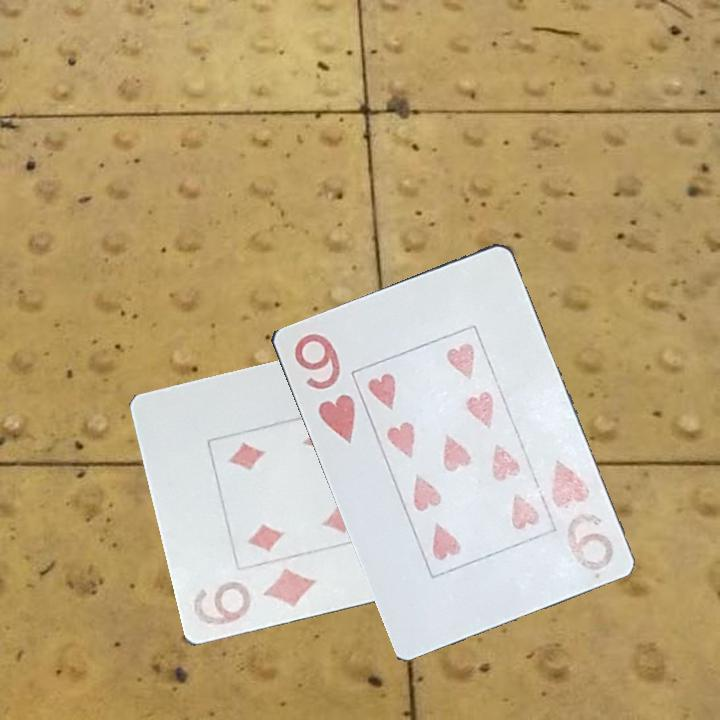6d: (187, 565, 319, 629)
9h: (546, 455, 617, 580), (290, 329, 358, 450)
